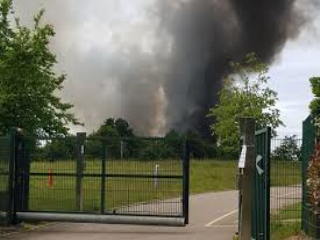smoke: (144, 1, 265, 157)
